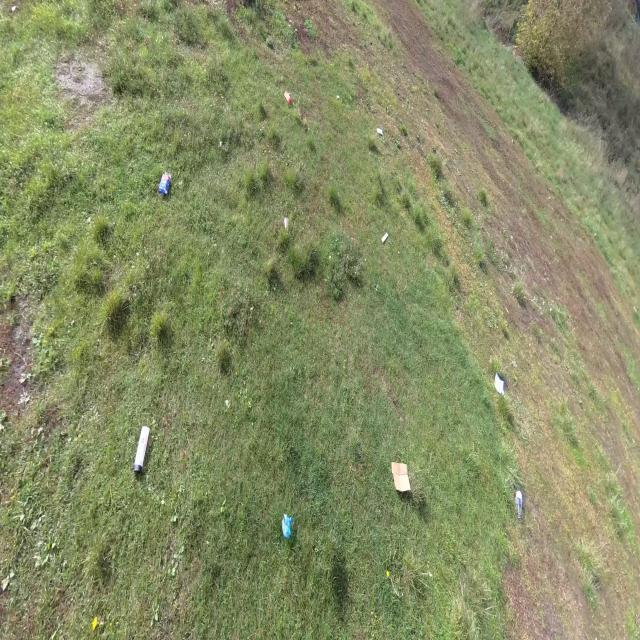rubbish: (133, 425, 151, 476), (391, 461, 412, 493), (158, 171, 172, 195), (280, 511, 292, 539), (494, 373, 506, 398), (514, 489, 523, 519), (283, 90, 291, 105), (380, 231, 389, 244), (376, 126, 384, 136), (284, 217, 289, 231), (11, 3, 17, 13), (336, 94, 341, 99)
